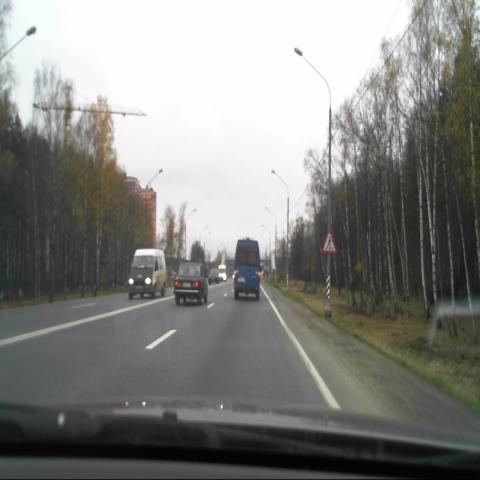1_22: (322, 230, 336, 253)
